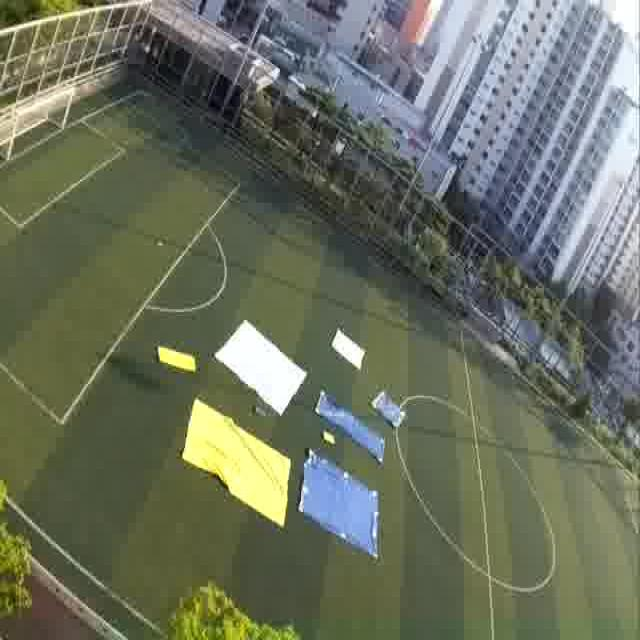danger: (304, 476, 381, 552), (313, 394, 356, 428), (376, 392, 408, 432)
safety: (234, 334, 295, 401), (331, 330, 369, 372)
warning: (189, 423, 286, 519), (158, 343, 198, 377)
